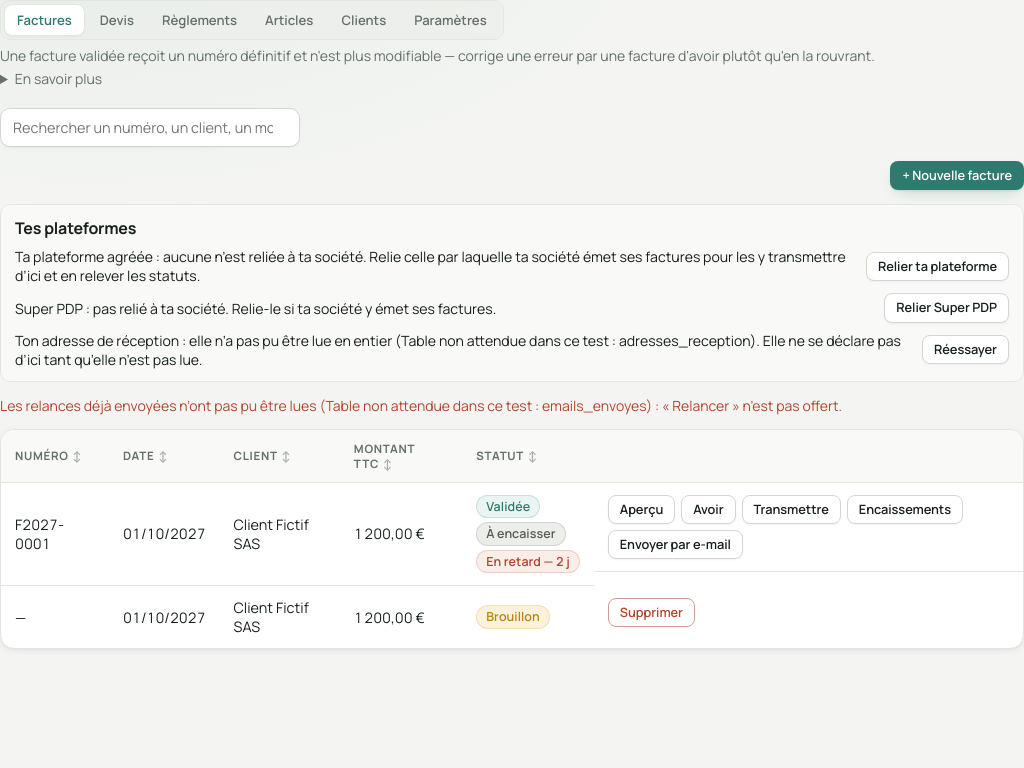
Test case: FacturesTab en mode client — le garde des mots › l’avoir d’une facture : rien du cabinet dans ce que lit le client
The image size is (1024, 768).
Expected: the text "F2027-0001" is shown, x1=15 y1=515 x2=64 y2=553
Click the button "Avoir": point(708, 509) x1=681 y1=495 x2=736 y2=524
(page scrolled)
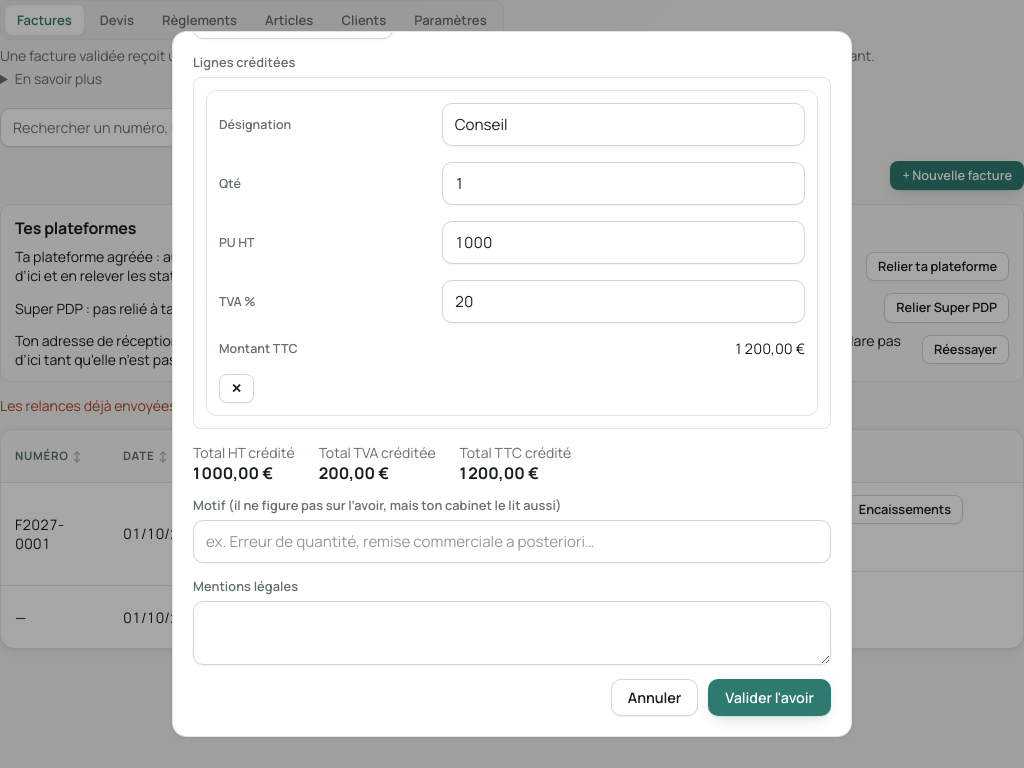
Expected: the button "Valider l'avoir" is shown, x1=708 y1=679 x2=831 y2=716
